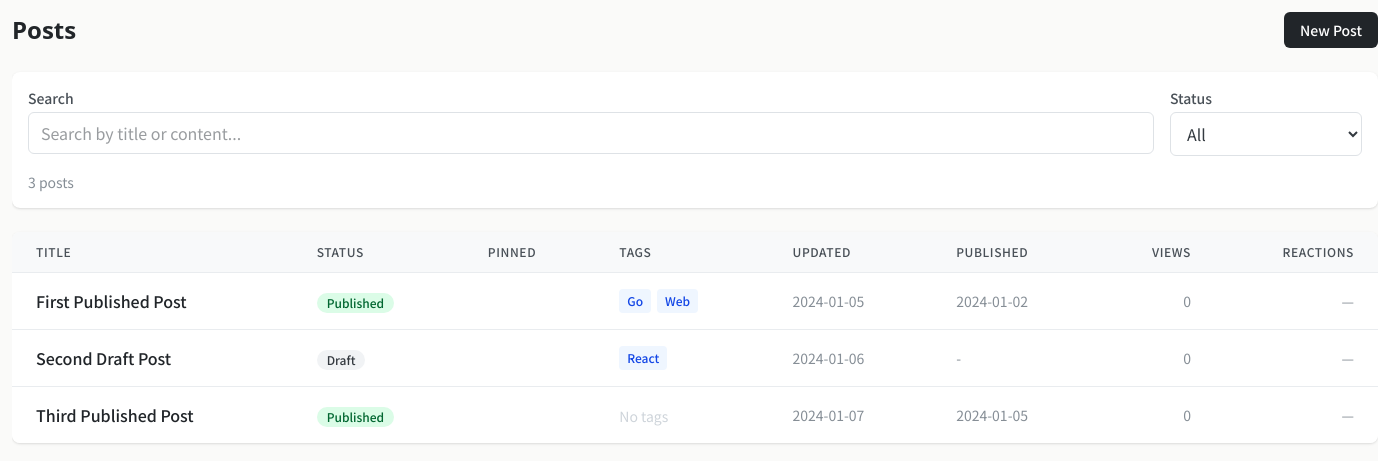
Test case: PostList › Search functionality › should show clear button when search query is entered
This screenshot has width=1378, height=461.
Expected: the link "First Published Post" is shown, top-left (36, 289), bottom-right (186, 313)
Type "test" into the field labelled "Search" at {"x": 591, "y": 133}, box top-left (28, 112), bottom-right (1154, 154)
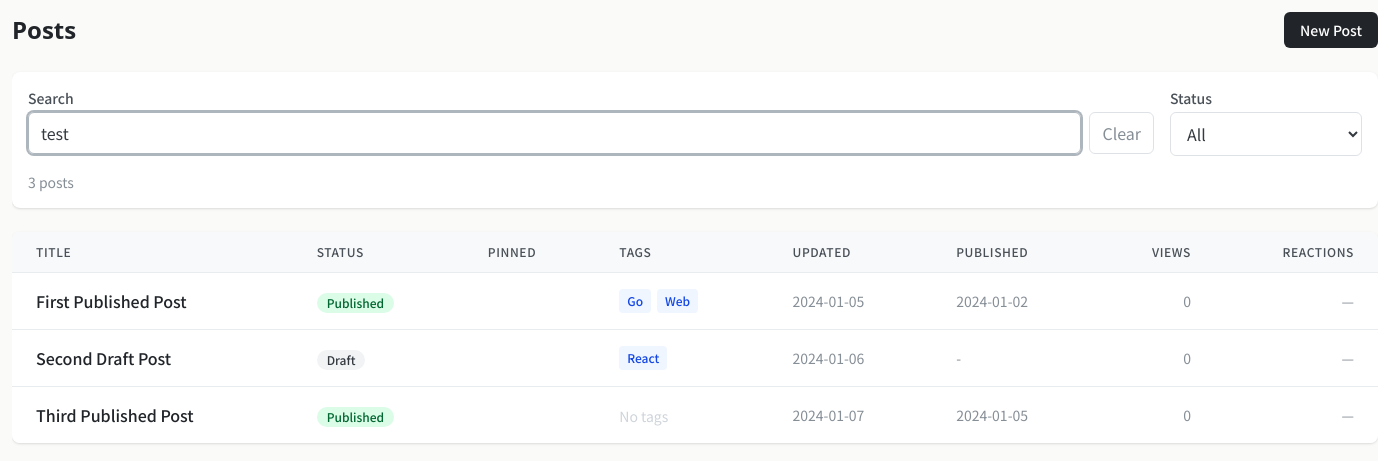
Result: the button titled "Clear search" is shown at top-left (1090, 112), bottom-right (1154, 154)
